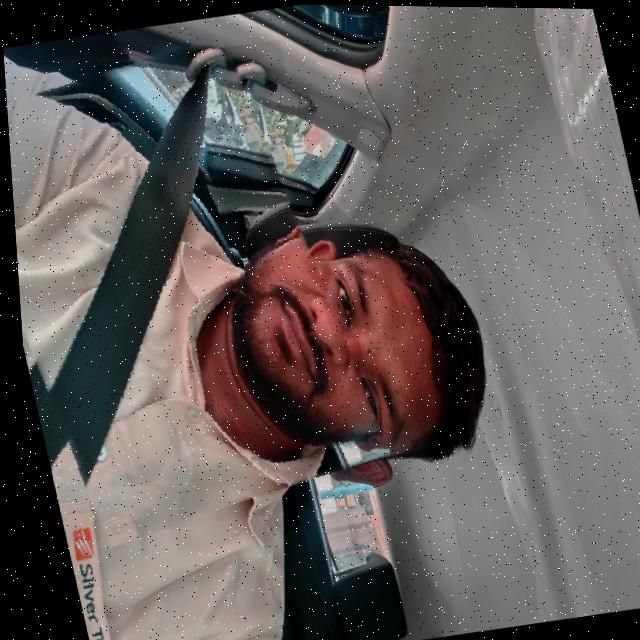seatbelt: (2, 34, 377, 546)
